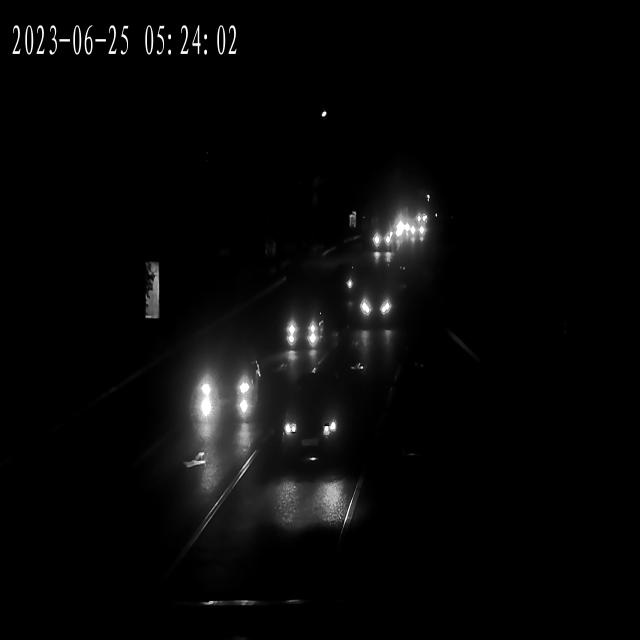Car: (276, 382, 348, 480), (196, 352, 262, 437), (281, 294, 330, 369), (356, 274, 396, 330), (373, 219, 392, 254), (392, 214, 407, 245), (412, 220, 428, 242)
